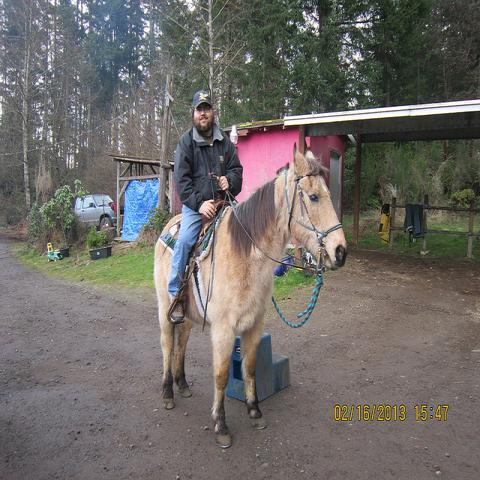car: (73, 194, 117, 230)
truck: (74, 193, 117, 231)
